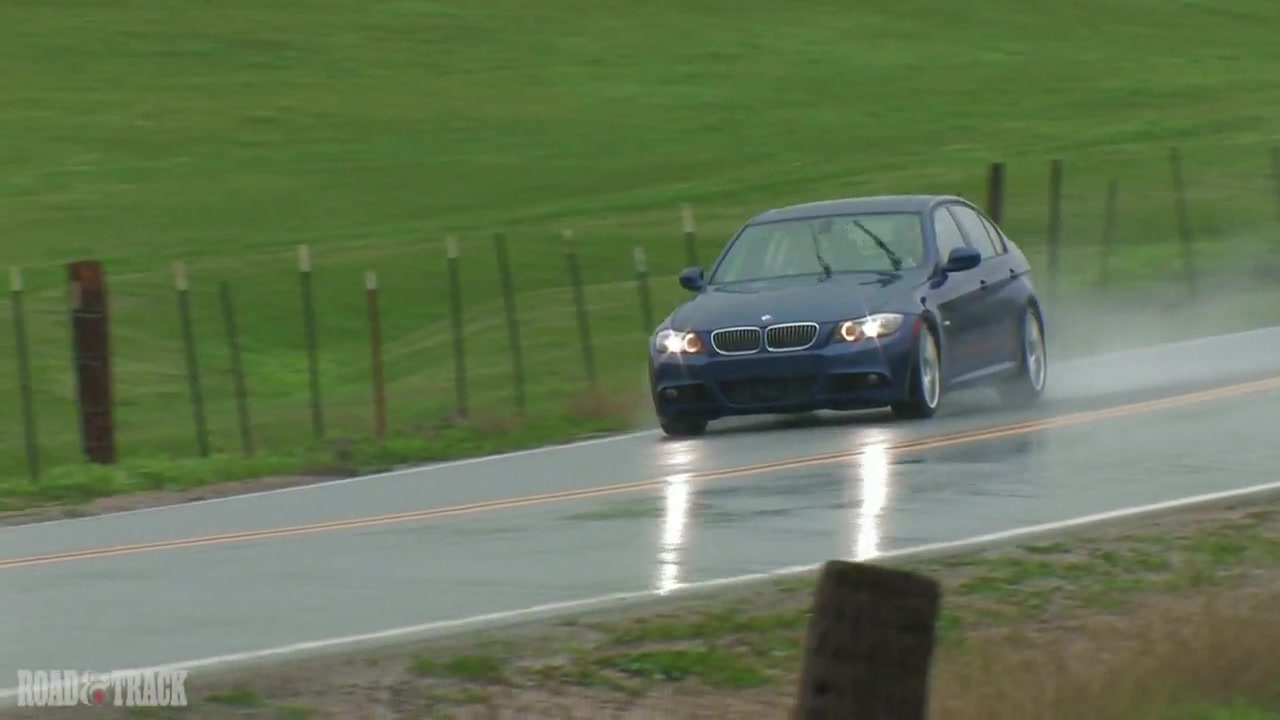car: (649, 190, 1050, 441)
